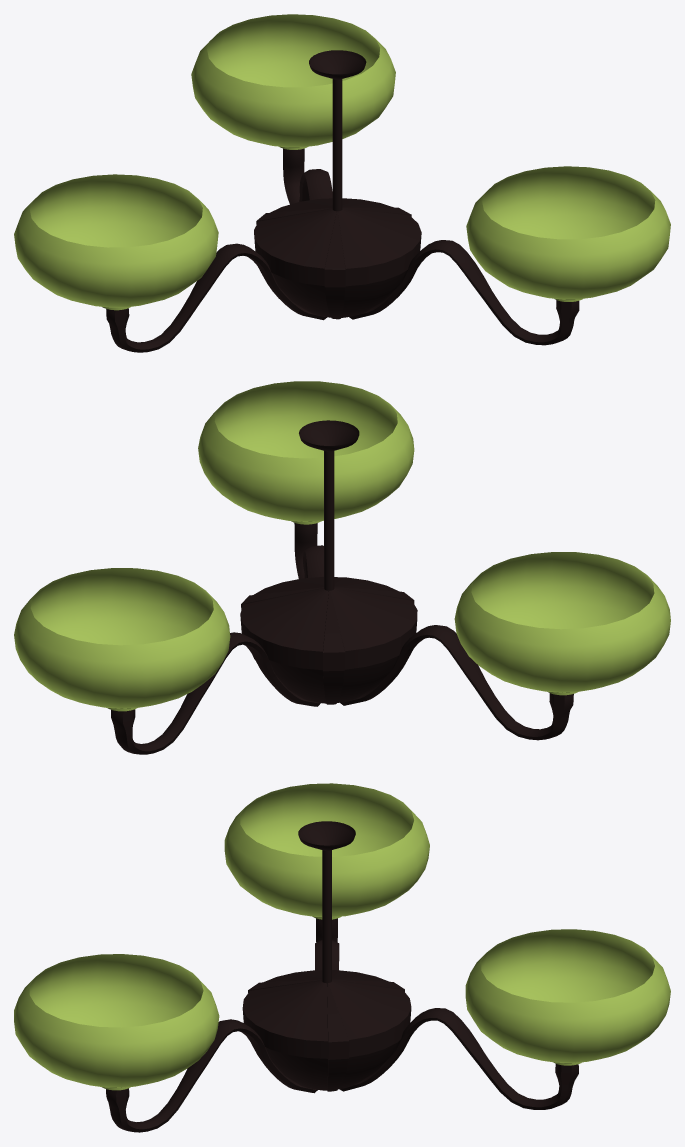
The model's file is Office Ceiling Light Glass.FBX.
3 views of the same model, one above another, from view 1: azimuth 30°, elevation 25°; view 2: azimuth 150°, elevation 25°; view 3: azimuth 270°, elevation 25° (orthographic). The views are drawn at different scales.
Parts seen in each view (by area): view 1: Sphere001, Sphere004, Sphere003, Sphere002, Line002, Line001, Line003; view 2: Sphere001, Sphere003, Sphere004, Sphere002, Line001, Line003, Line002; view 3: Sphere003, Sphere004, Sphere001, Sphere002, Line003, Line002, Line001.
Part boxes in pixels (left/top/right/bottom): Sphere001: left=14, top=174, right=218, bottom=310; Sphere004: left=466, top=166, right=670, bottom=301; Sphere003: left=191, top=14, right=395, bottom=149; Sphere002: left=254, top=50, right=421, bottom=319; Line002: left=349, top=240, right=579, bottom=345; Line001: left=106, top=243, right=326, bottom=352; Line003: left=283, top=148, right=332, bottom=204; Sphere001: left=454, top=552, right=670, bottom=695; Sphere003: left=14, top=568, right=230, bottom=711; Sphere004: left=198, top=381, right=414, bottom=524; Sphere002: left=240, top=420, right=417, bottom=704; Line001: left=340, top=625, right=573, bottom=740; Line003: left=111, top=632, right=320, bottom=754; Line002: left=294, top=523, right=323, bottom=578; Sphere003: left=465, top=929, right=670, bottom=1065; Sphere004: left=14, top=954, right=219, bottom=1090; Sphere001: left=224, top=783, right=429, bottom=919; Sphere002: left=242, top=821, right=411, bottom=1091; Line003: left=339, top=1008, right=578, bottom=1109; Line002: left=106, top=1019, right=317, bottom=1132; Line001: left=315, top=918, right=339, bottom=970.
Size of the model in its own units: 65.25 by 30.18 by 70.36.
